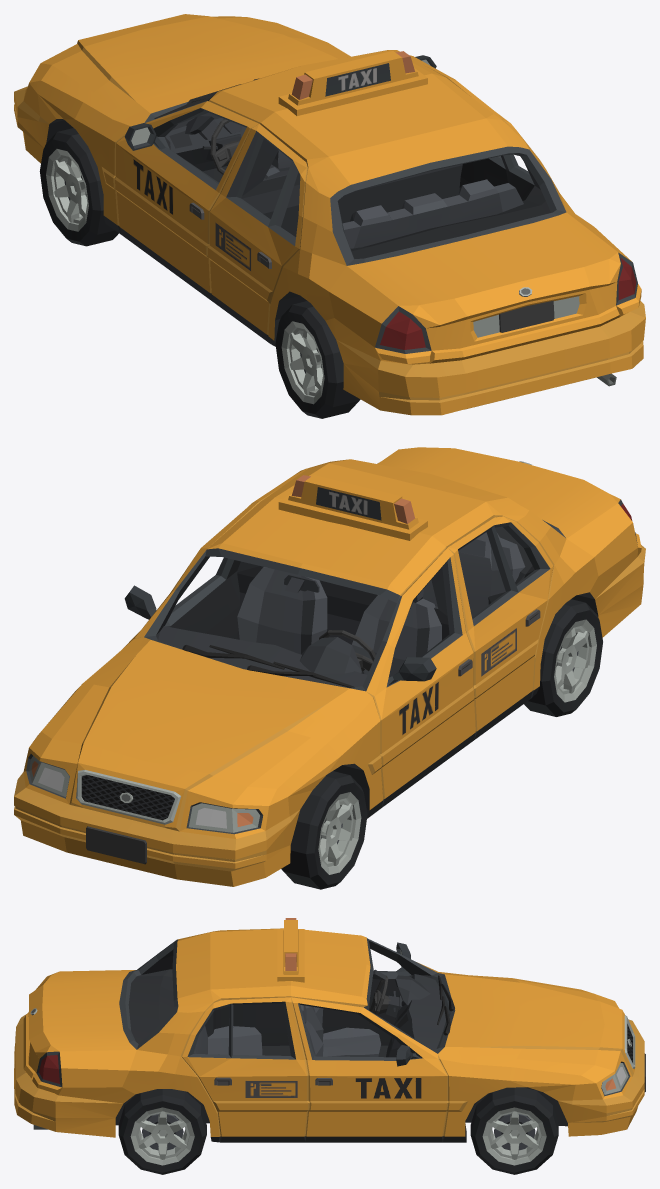
Rendered from taxi.glb.
3 views of the same model, one above another, from view 1: azimuth 30°, elevation 25°; view 2: azimuth 150°, elevation 25°; view 3: azimuth 270°, elevation 25° (orthographic). The views are drawn at different scales.
Visible parts, largest first — view 1: taxi_cab.002; view 2: taxi_cab.002; view 3: taxi_cab.002.
Boxes of the visible parts, left/top/right/bottom form: taxi_cab.002: left=14, top=14, right=645, bottom=418; taxi_cab.002: left=14, top=447, right=645, bottom=889; taxi_cab.002: left=14, top=918, right=645, bottom=1174.
Size of the model in its own units: 0.4462 by 0.3538 by 1.06.
Materials: 3 (1 with a texture image).
